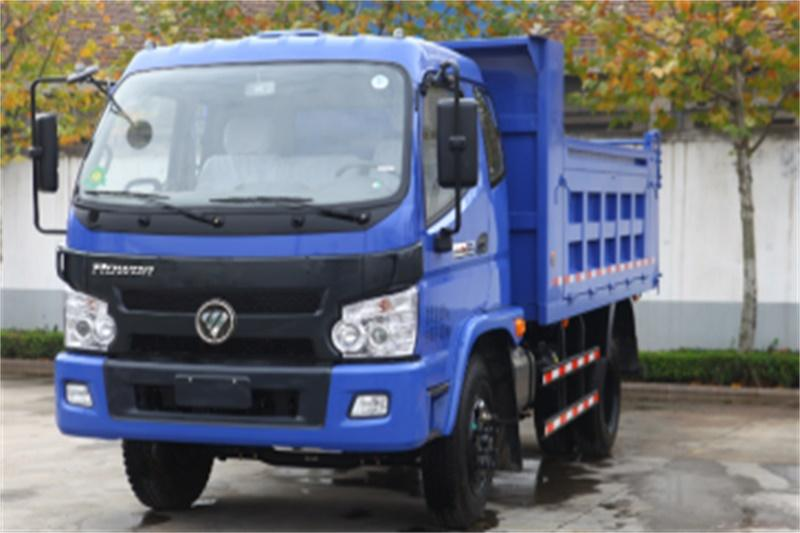truck: (24, 15, 666, 519)
